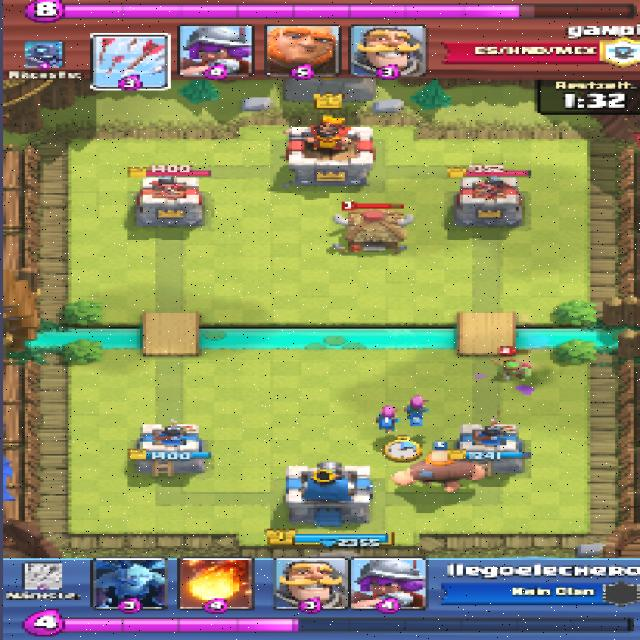Enemy-GoblinHut: (328, 212, 414, 252)
Enemy-SpearGoblin: (491, 358, 536, 380)
Player-Archer: (404, 395, 431, 421), (374, 404, 399, 429)
Player-Giant: (392, 450, 486, 495)
